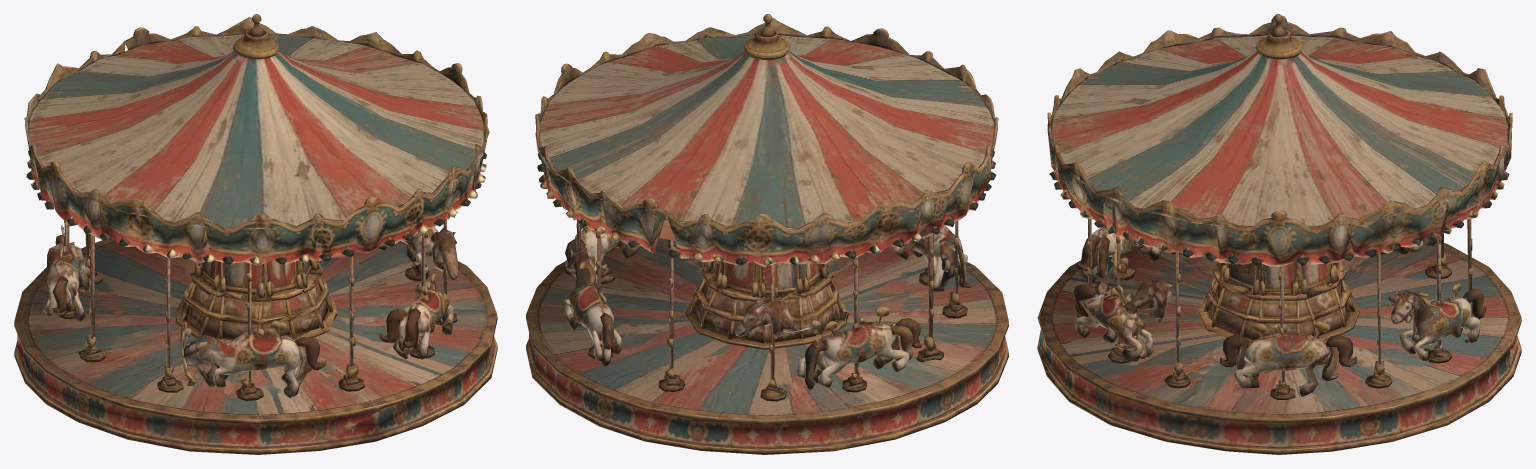
Rendered from prop_carousel.glb.
The picture shows the model from 3 angles, left to right: view 1: azimuth 30°, elevation 25°; view 2: azimuth 150°, elevation 25°; view 3: azimuth 270°, elevation 25°; orthographic projection.
Size of the model in its own units: 0.957 by 0.7359 by 0.9555.
Materials: 1 (1 with a texture image).
